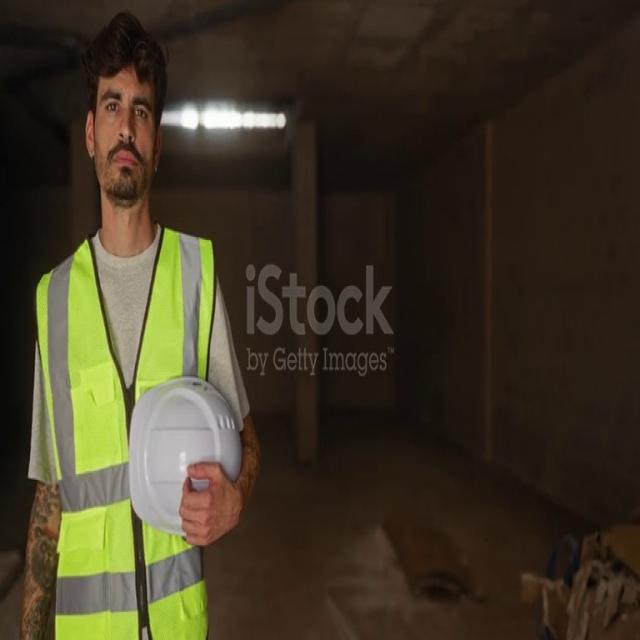sem_capacete: (70, 6, 176, 225)
